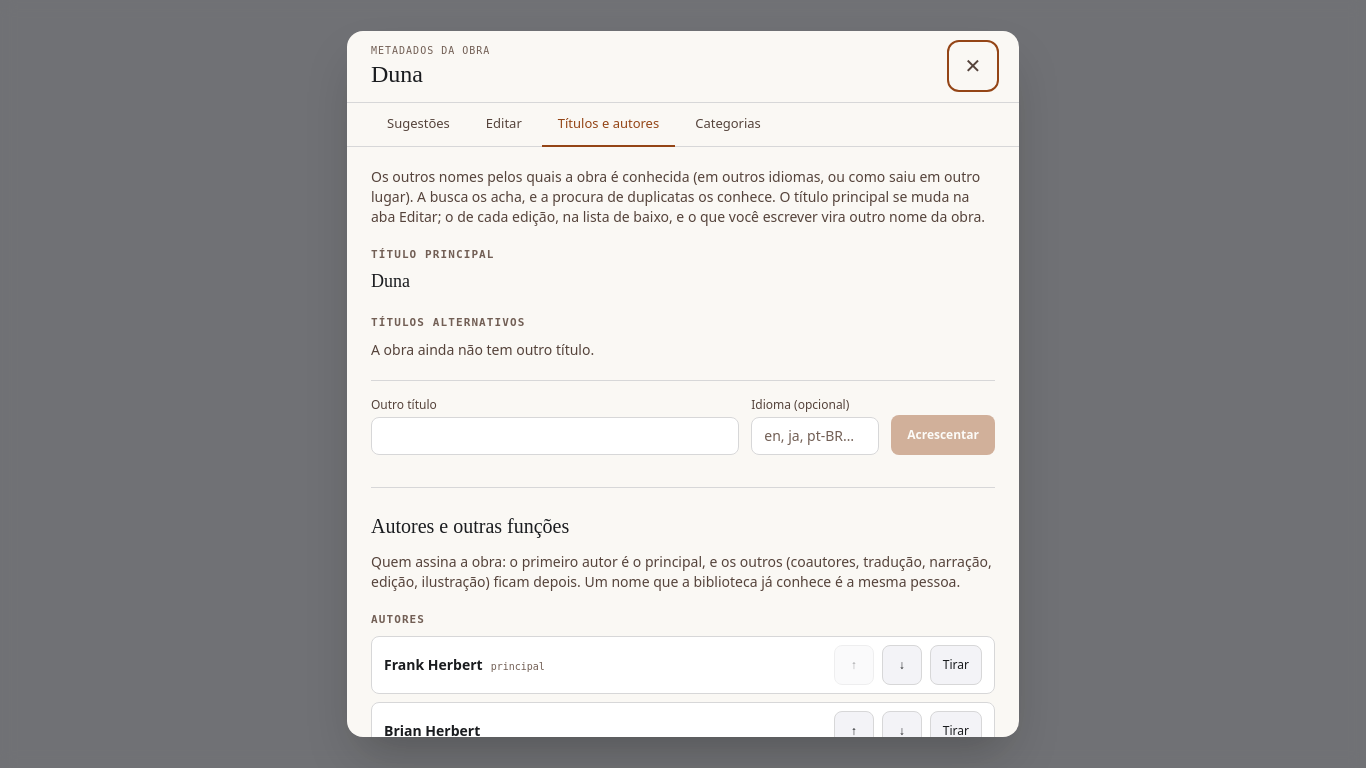
EditBookModal: the people credited on a work (#185) › waits while an order is being sent: nothing else can be pressed
Click the button "↓" in the row of "Frank Herbert".
click(902, 665)  # box [882,645,922,685]
(page scrolled)
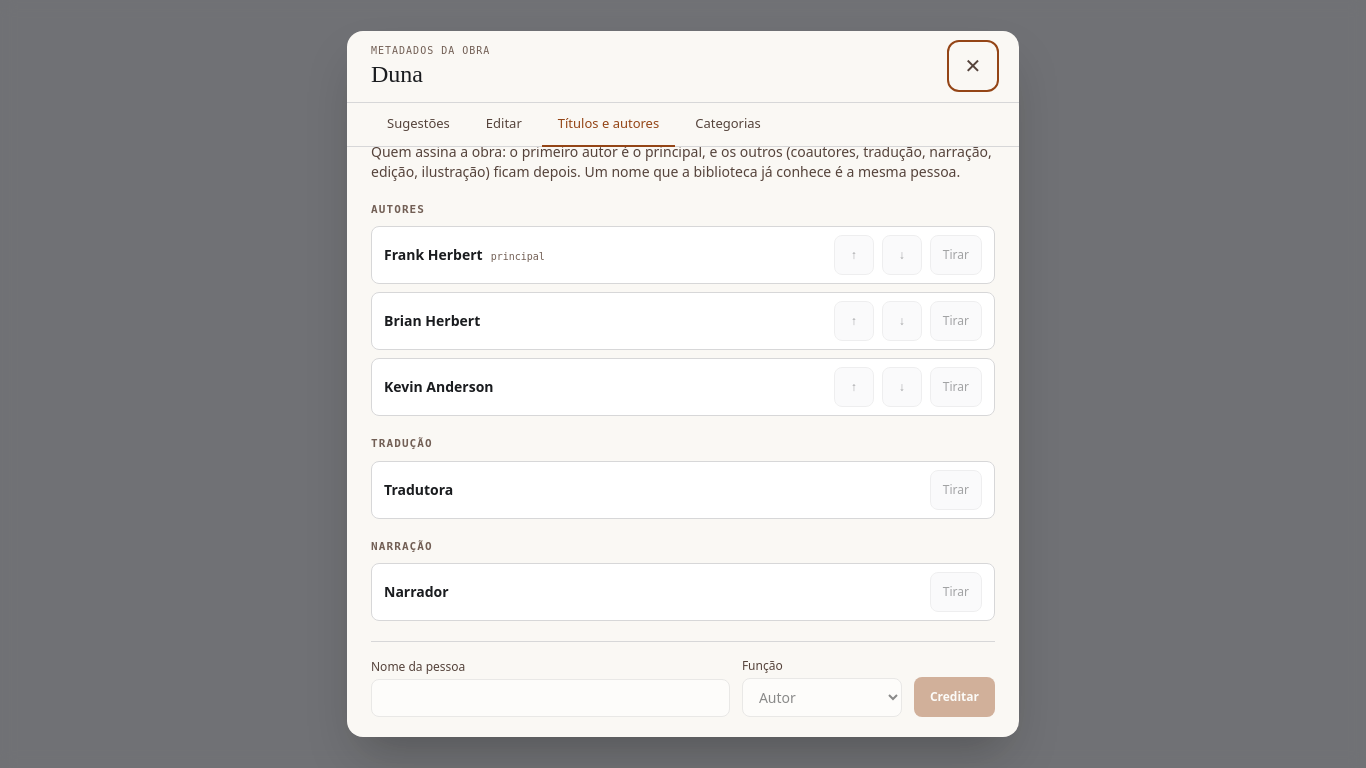
Expected: the button "Creditar" is disabled, [914,677,995,717]
